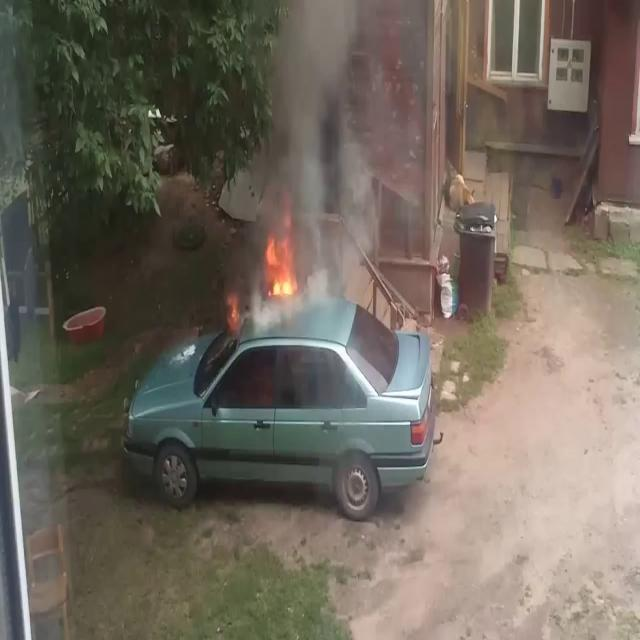Fire: (260, 225, 300, 305)
Smoke: (240, 0, 428, 298)
